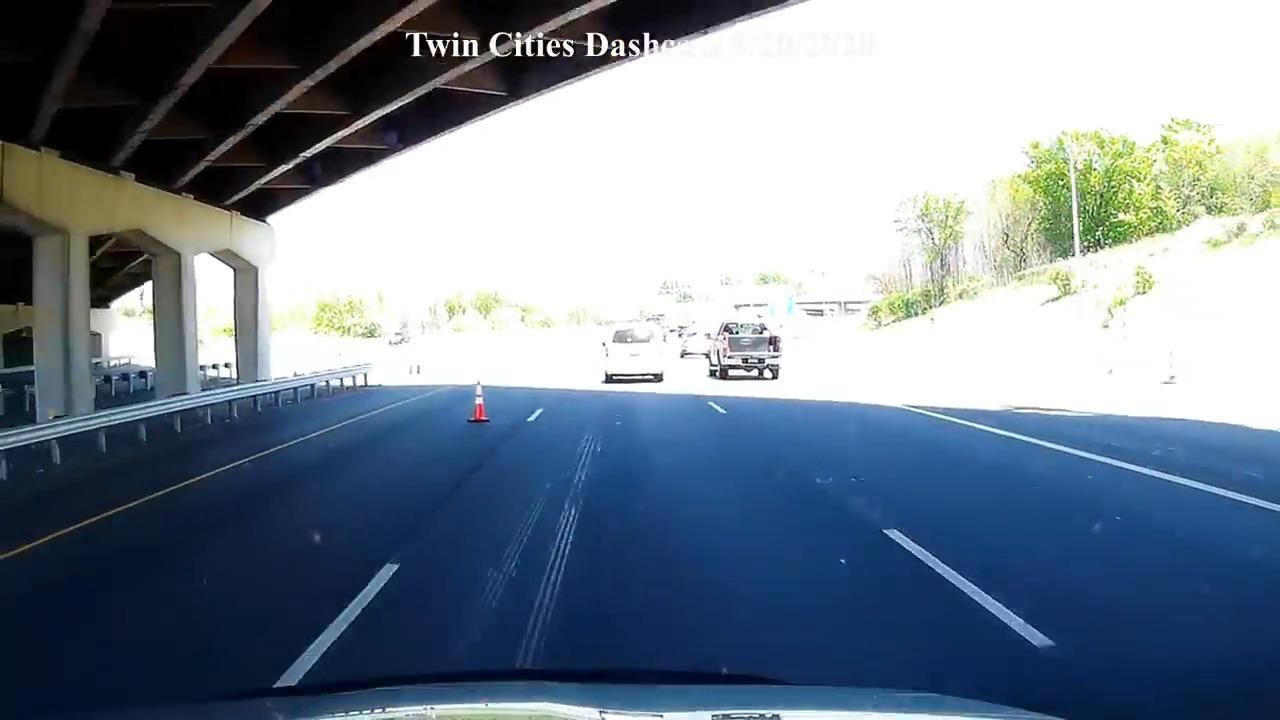car: (706, 320, 783, 381), (600, 322, 668, 384), (679, 328, 712, 360)
traffic cone: (467, 380, 491, 424)
